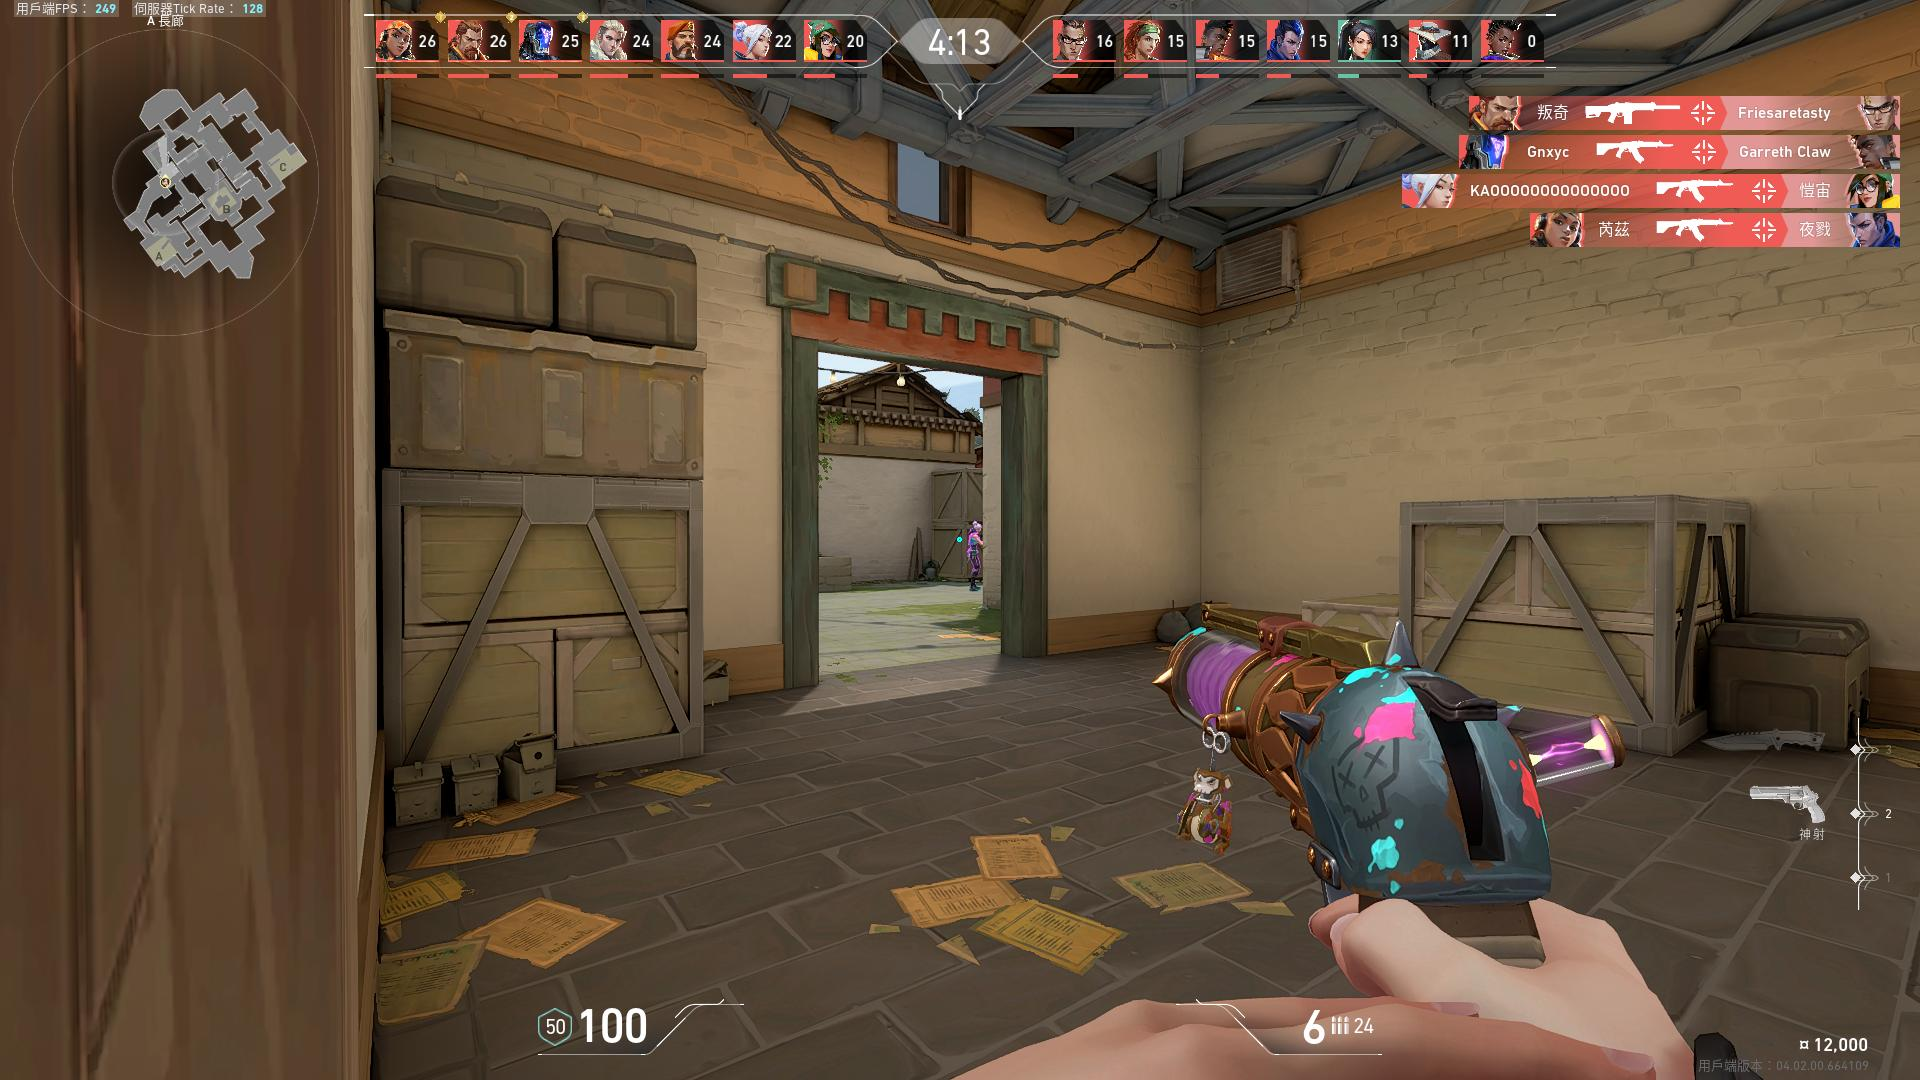enemyBody: (971, 533, 976, 549)
enemyHead: (975, 524, 980, 531)
